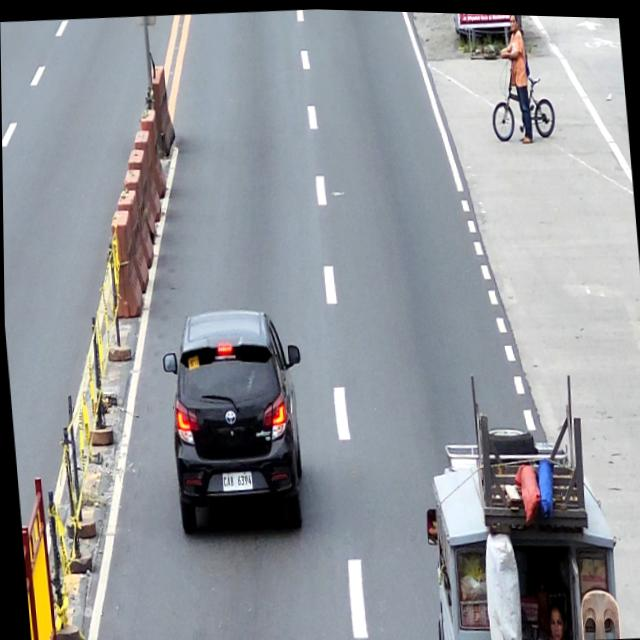Bicycle: (487, 48, 557, 143)
Car: (159, 302, 313, 540)
Jeep: (418, 430, 619, 640)
License-Plate: (219, 468, 252, 490)
